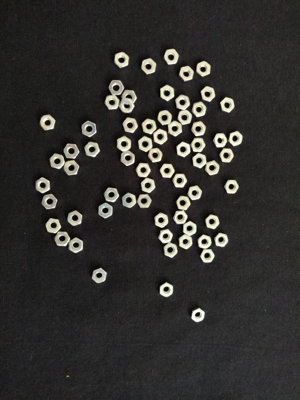nut: (162, 48, 180, 66), (83, 141, 101, 159), (140, 58, 158, 75), (121, 117, 139, 134), (63, 142, 80, 160), (48, 153, 66, 170), (38, 114, 57, 130), (113, 52, 130, 69), (81, 121, 98, 138), (34, 177, 51, 194), (137, 136, 154, 153), (152, 129, 169, 146), (91, 268, 108, 285), (177, 66, 195, 82), (40, 194, 58, 210), (195, 62, 212, 78), (108, 80, 125, 96), (103, 95, 120, 111), (160, 85, 176, 102), (201, 86, 217, 103), (220, 97, 236, 114), (192, 101, 208, 118), (157, 109, 173, 126), (142, 118, 158, 135), (63, 160, 80, 176), (116, 136, 133, 152), (135, 162, 152, 178), (103, 187, 120, 203), (45, 218, 62, 234), (182, 220, 198, 237), (122, 191, 137, 209), (177, 110, 193, 126), (168, 121, 184, 137), (191, 121, 207, 137), (176, 142, 192, 158), (191, 153, 207, 169), (187, 185, 203, 201), (205, 214, 221, 230), (137, 193, 153, 209), (67, 210, 83, 226), (68, 238, 84, 254), (163, 242, 179, 258), (118, 98, 135, 113), (119, 151, 136, 166), (159, 163, 176, 178), (141, 177, 156, 194), (98, 202, 113, 219), (54, 232, 71, 247), (154, 212, 169, 229), (199, 249, 216, 264), (159, 282, 174, 299), (175, 95, 191, 110), (190, 138, 206, 153), (213, 133, 228, 149), (219, 148, 235, 163), (205, 160, 220, 176), (224, 179, 240, 194), (158, 229, 174, 244), (191, 308, 206, 324), (121, 90, 138, 104), (148, 148, 163, 163), (173, 173, 188, 188), (179, 234, 194, 249), (197, 235, 212, 250), (214, 233, 229, 248), (229, 131, 243, 147), (175, 196, 191, 210), (173, 211, 189, 225)
